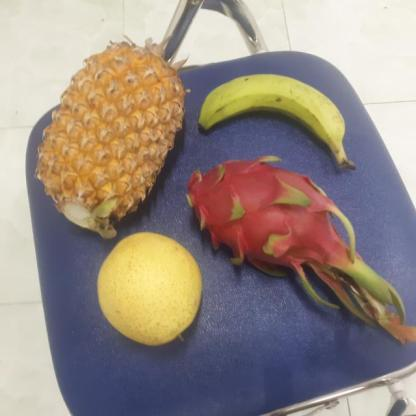banana: (192, 76, 351, 162)
pear: (95, 232, 200, 346)
pineapple: (35, 49, 184, 231)
pitaya: (177, 156, 350, 274)
